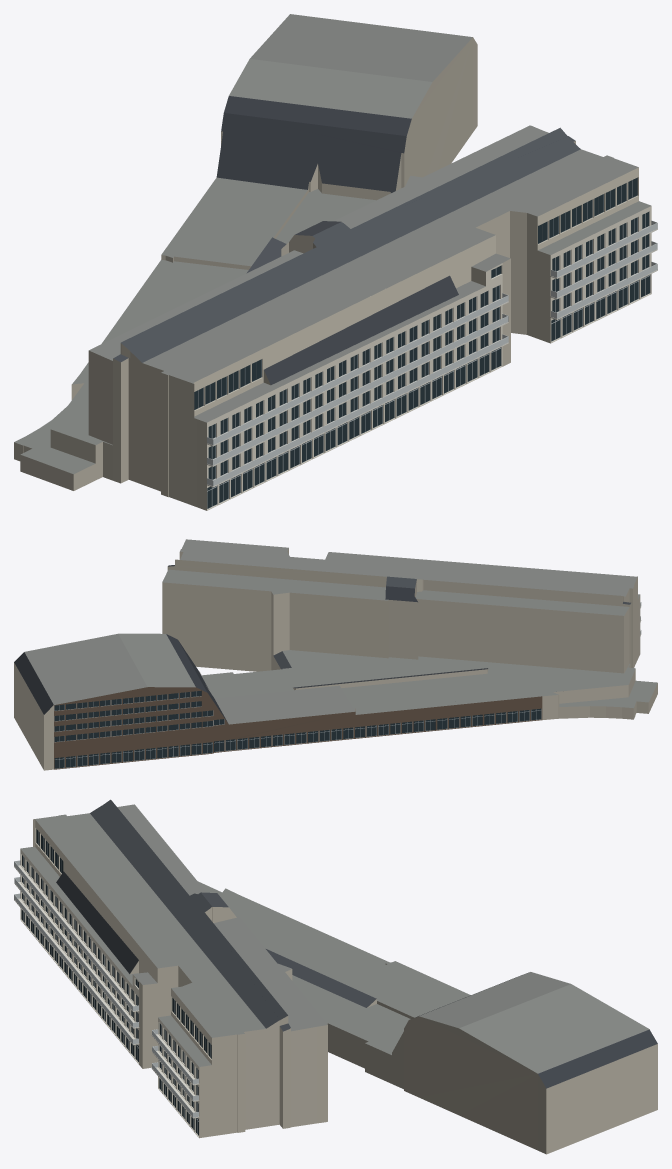
The model's file is recipe-large-polderweg-3-134667.glb.
3 renders of one model, top to bottom at view 1: azimuth 30°, elevation 25°; view 2: azimuth 150°, elevation 25°; view 3: azimuth 270°, elevation 25°, orthographic. The views are drawn at different scales.
Visible parts, largest first — view 1: polderweg-3-134667; view 2: polderweg-3-134667; view 3: polderweg-3-134667.
Boxes of the visible parts, x1=… form: polderweg-3-134667: x1=14, y1=14, x2=657, y2=510; polderweg-3-134667: x1=14, y1=539, x2=657, y2=770; polderweg-3-134667: x1=14, y1=799, x2=657, y2=1154.
Bounding box in the file's own units: 122 × 23.43 × 121.
